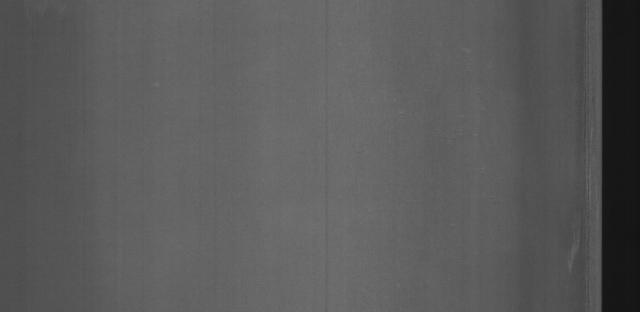silk_spot: (568, 60, 599, 271)
